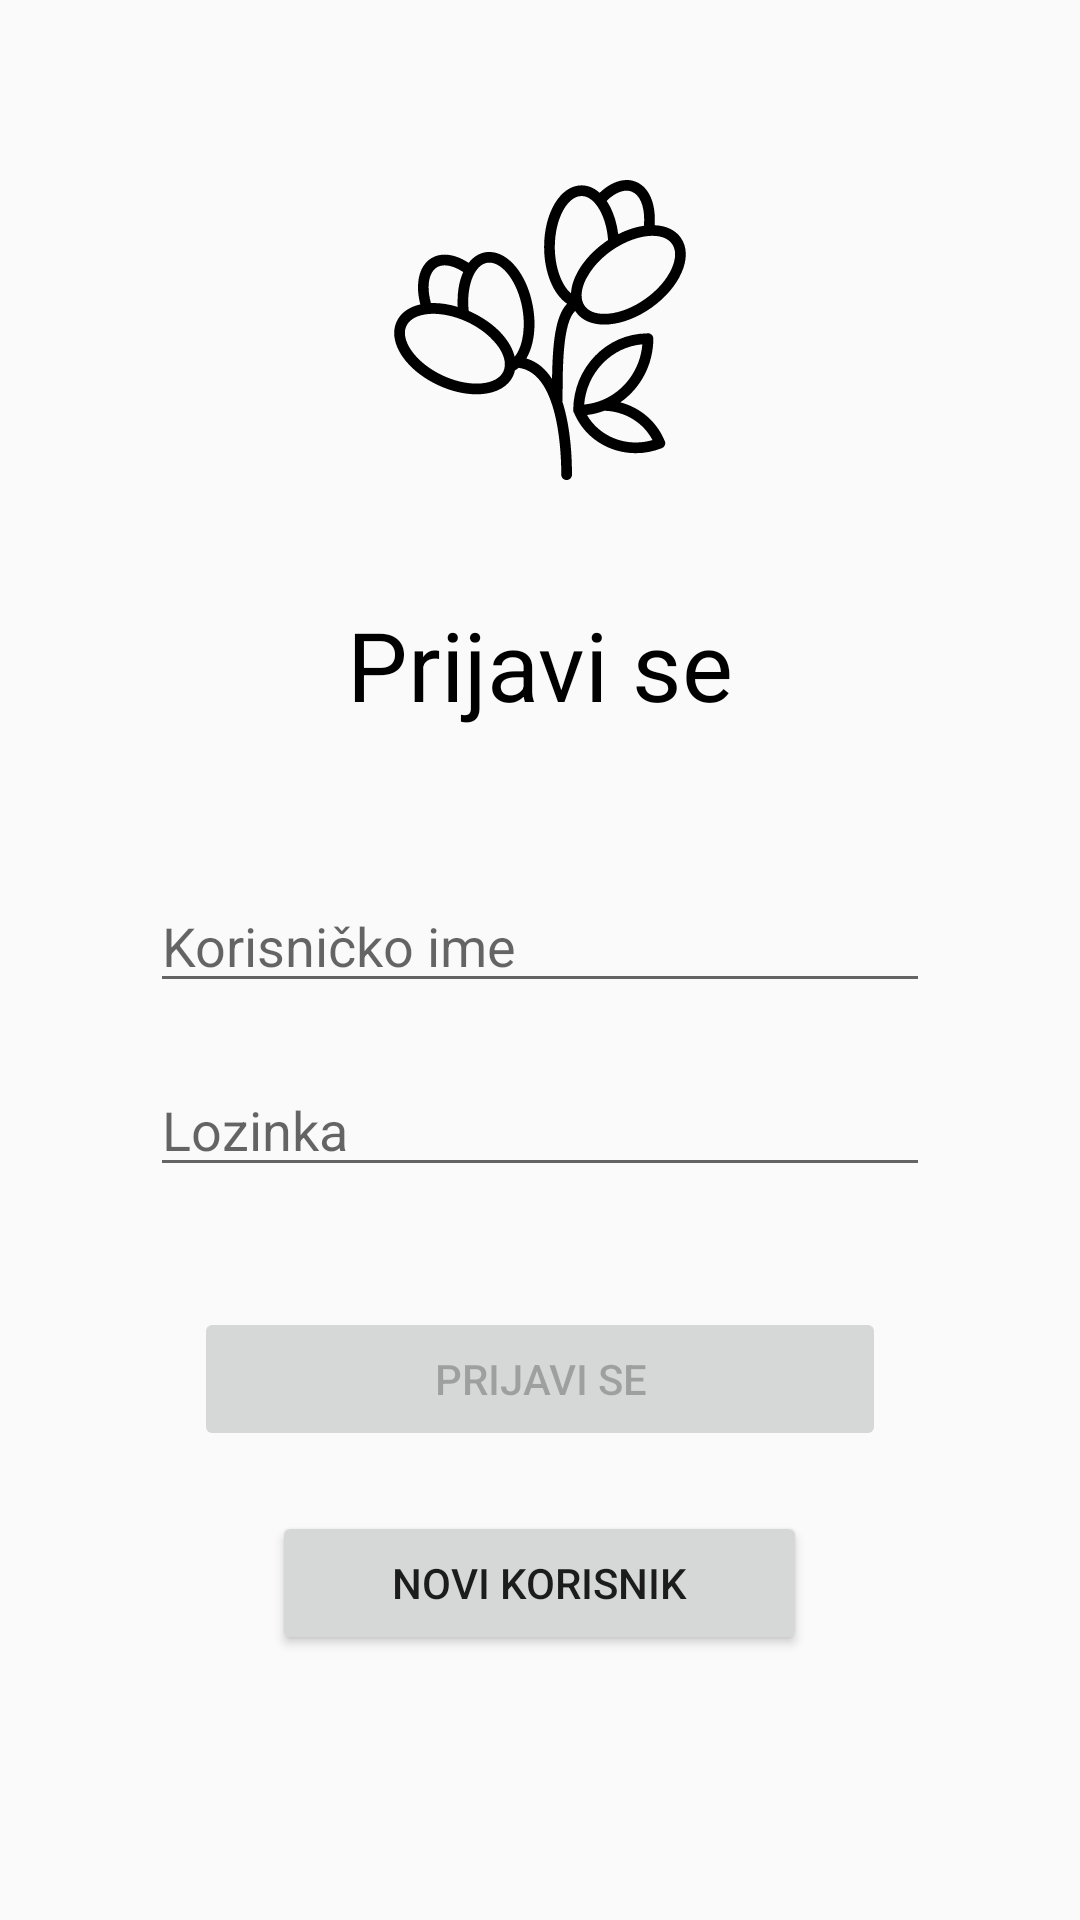

Icons on this 1080×1920 Android screen, each with the point to tap as (x,y):
Cviće: (540,330)
